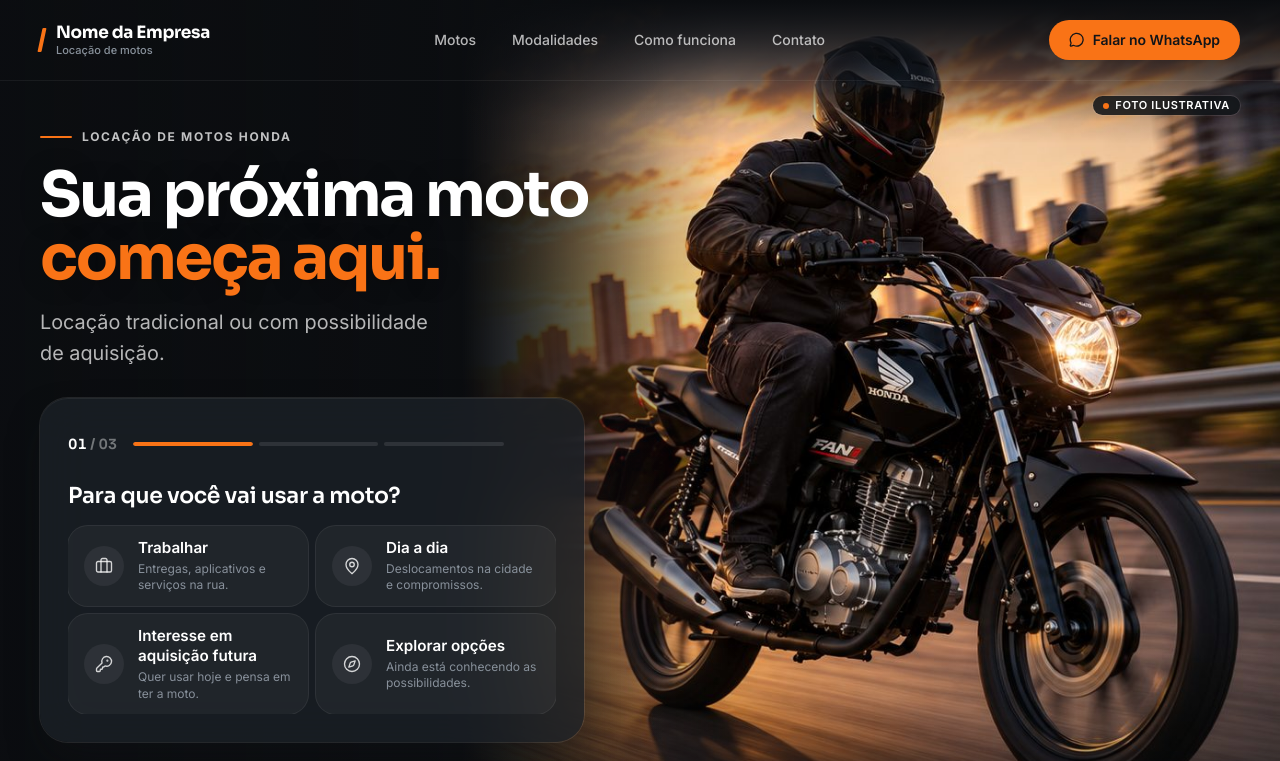
Test: Encontre sua próxima moto › avança, volta mantendo a resposta e leva o foco ao título da etapa
The width and height of the screenshot is (1280, 761).
Click the button "Trabalhar Entregas, aplicativos e serviços na rua.": click(188, 566) [68, 526, 308, 606]
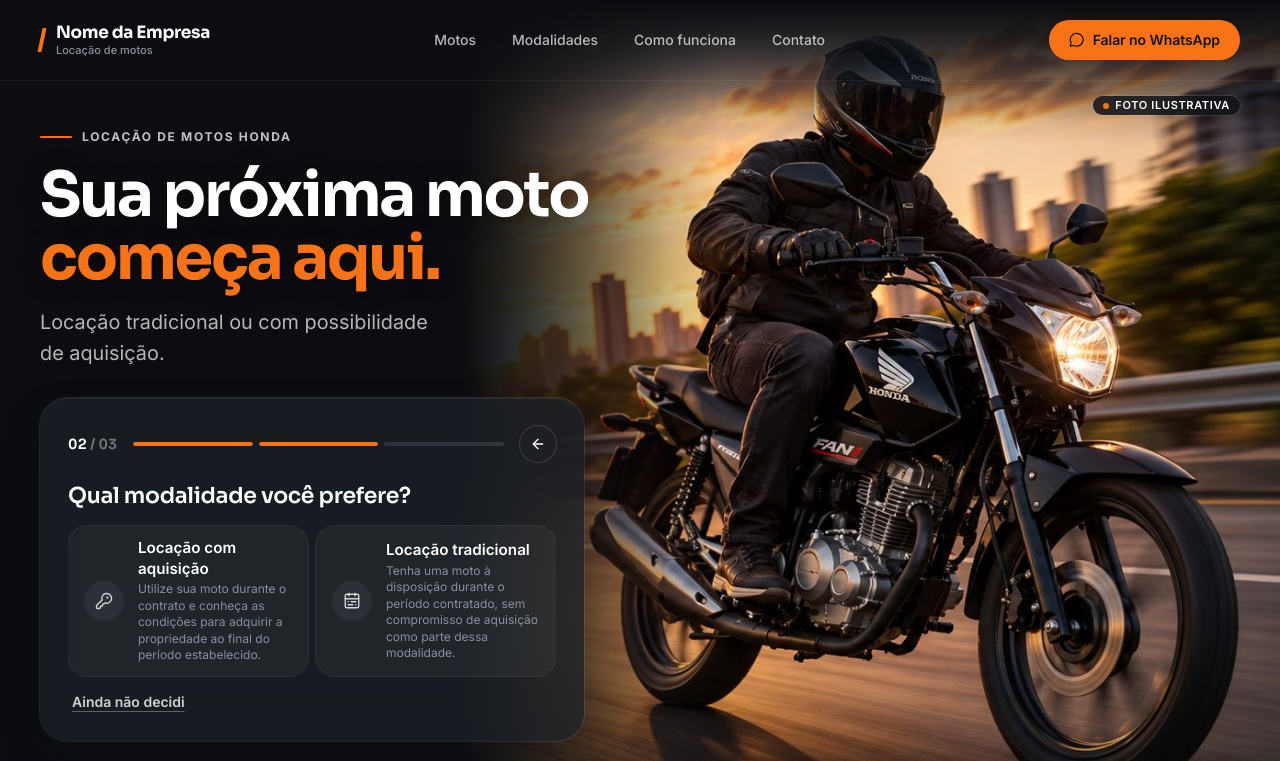
expect the progress indicator has attribute aria-valuenow="2": met, box [133, 442, 504, 446]
Click the button named "voltar": click(538, 444) [520, 426, 556, 462]
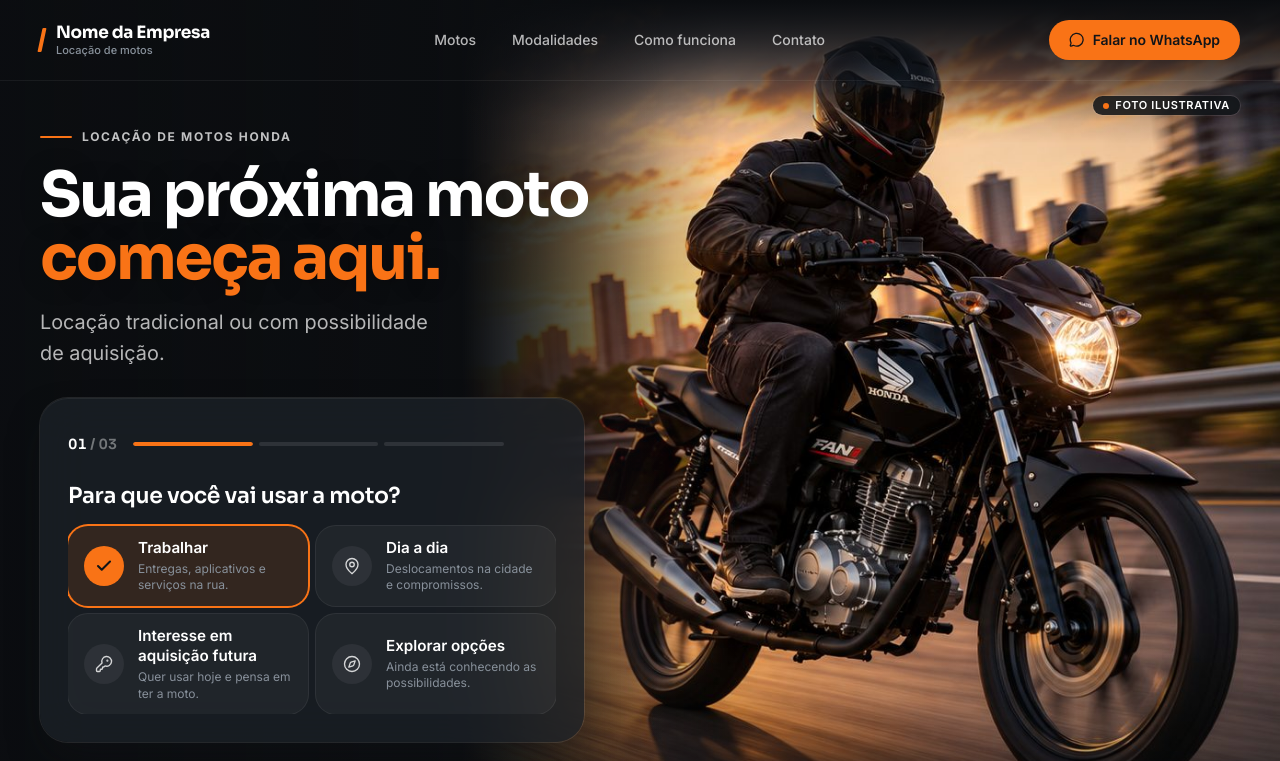
expect the heading "Para que você vai usar a moto?" is shown: met, box [68, 482, 400, 509]
